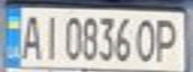0: (60, 12, 81, 62)
3: (97, 12, 118, 62)
6: (112, 15, 136, 63)
8: (78, 12, 100, 62)
A: (18, 10, 45, 61)
I: (39, 11, 60, 62)
O: (133, 15, 160, 64)
P: (151, 15, 184, 64)
